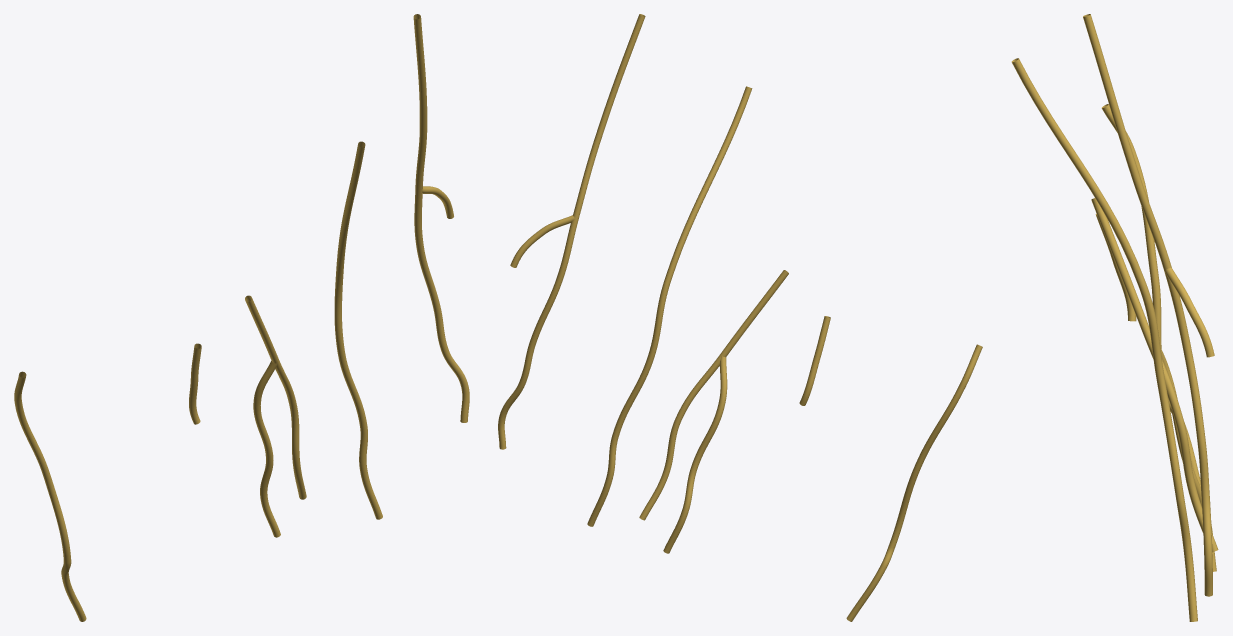
The picture shows the model from 3 angles, left to right: view 1: azimuth 30°, elevation 25°; view 2: azimuth 150°, elevation 25°; view 3: azimuth 270°, elevation 25°; orthographic projection. The views are drawn at different scales.
Visible parts, largest first — view 1: 左侧腓浅神经趾背神经; view 2: 左侧腓浅神经趾背神经; view 3: 左侧腓浅神经趾背神经.
Part boxes in pixels (x1=…): 左侧腓浅神经趾背神经: x1=14, y1=14, x2=469, y2=621; 左侧腓浅神经趾背神经: x1=498, y1=14, x2=982, y2=621; 左侧腓浅神经趾背神经: x1=1011, y1=14, x2=1218, y2=621.
Bounding box in the file's own units: 0.1127 × 0.1245 × 0.0365.
